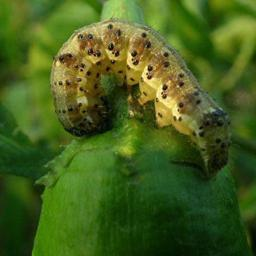Tobacco_budworm: (48, 18, 232, 176)
